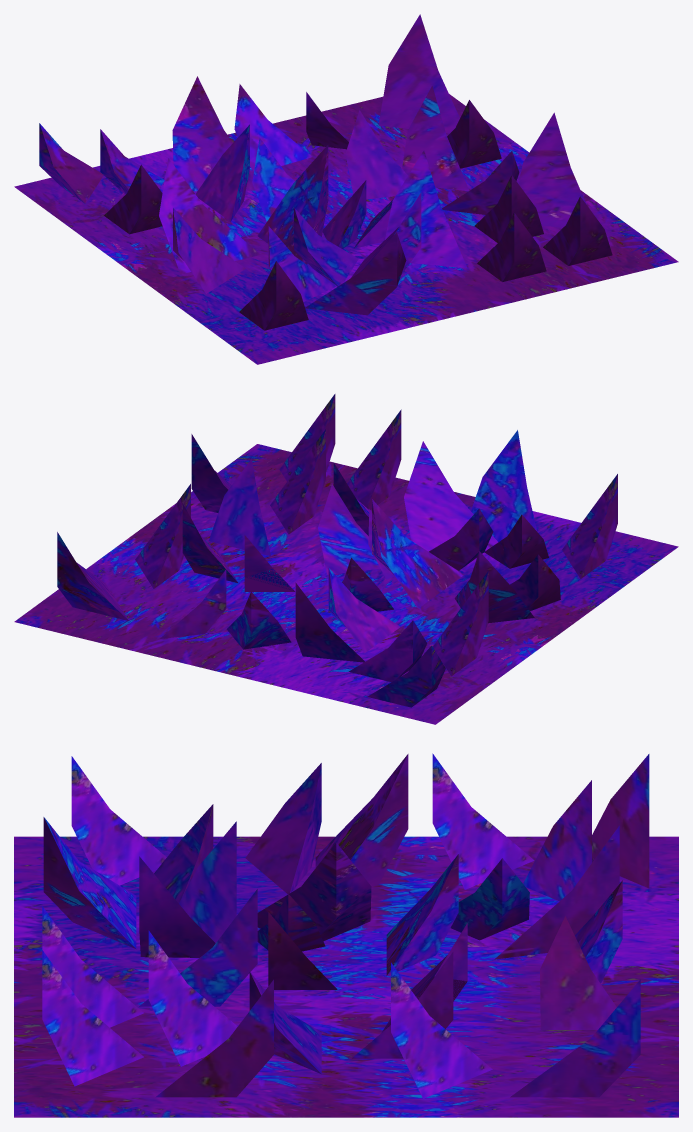
File: Cristal-transformed.glb
3 renders of one model, top to bottom at view 1: azimuth 30°, elevation 25°; view 2: azimuth 150°, elevation 25°; view 3: azimuth 270°, elevation 25°, orthographic. The views are drawn at different scales.
Parts seen in each view (by area): view 1: grass_grass1_0; view 2: grass_grass1_0; view 3: grass_grass1_0.
Boxes of the visible parts, x1=… form: grass_grass1_0: x1=14, y1=14, x2=678, y2=364; grass_grass1_0: x1=14, y1=394, x2=678, y2=724; grass_grass1_0: x1=14, y1=753, x2=678, y2=1117.
Bounding box in the file's own units: 1 × 0.2 × 1.
1 material, 1 textured.
